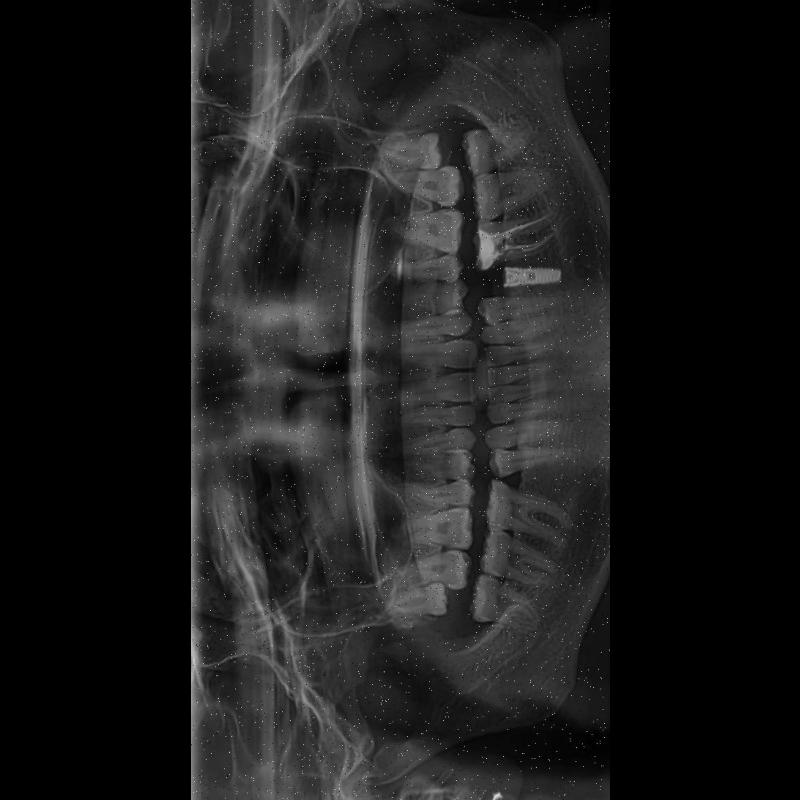osstem: (502, 261, 570, 297)
